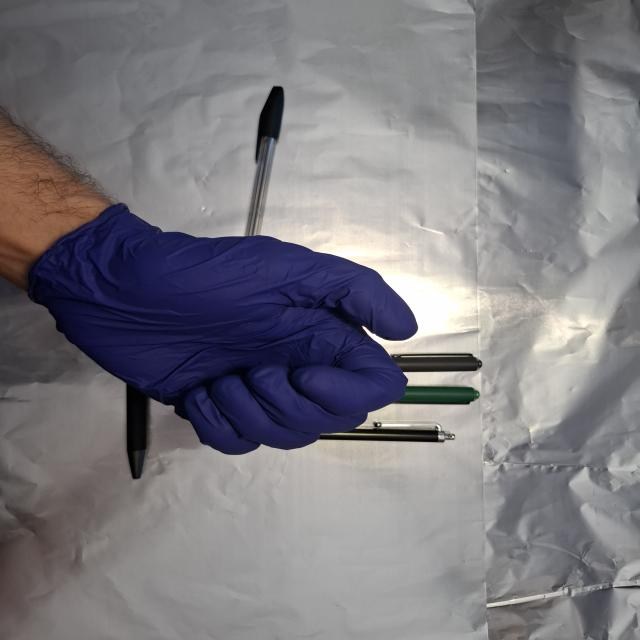glove_on: (24, 199, 428, 459)
